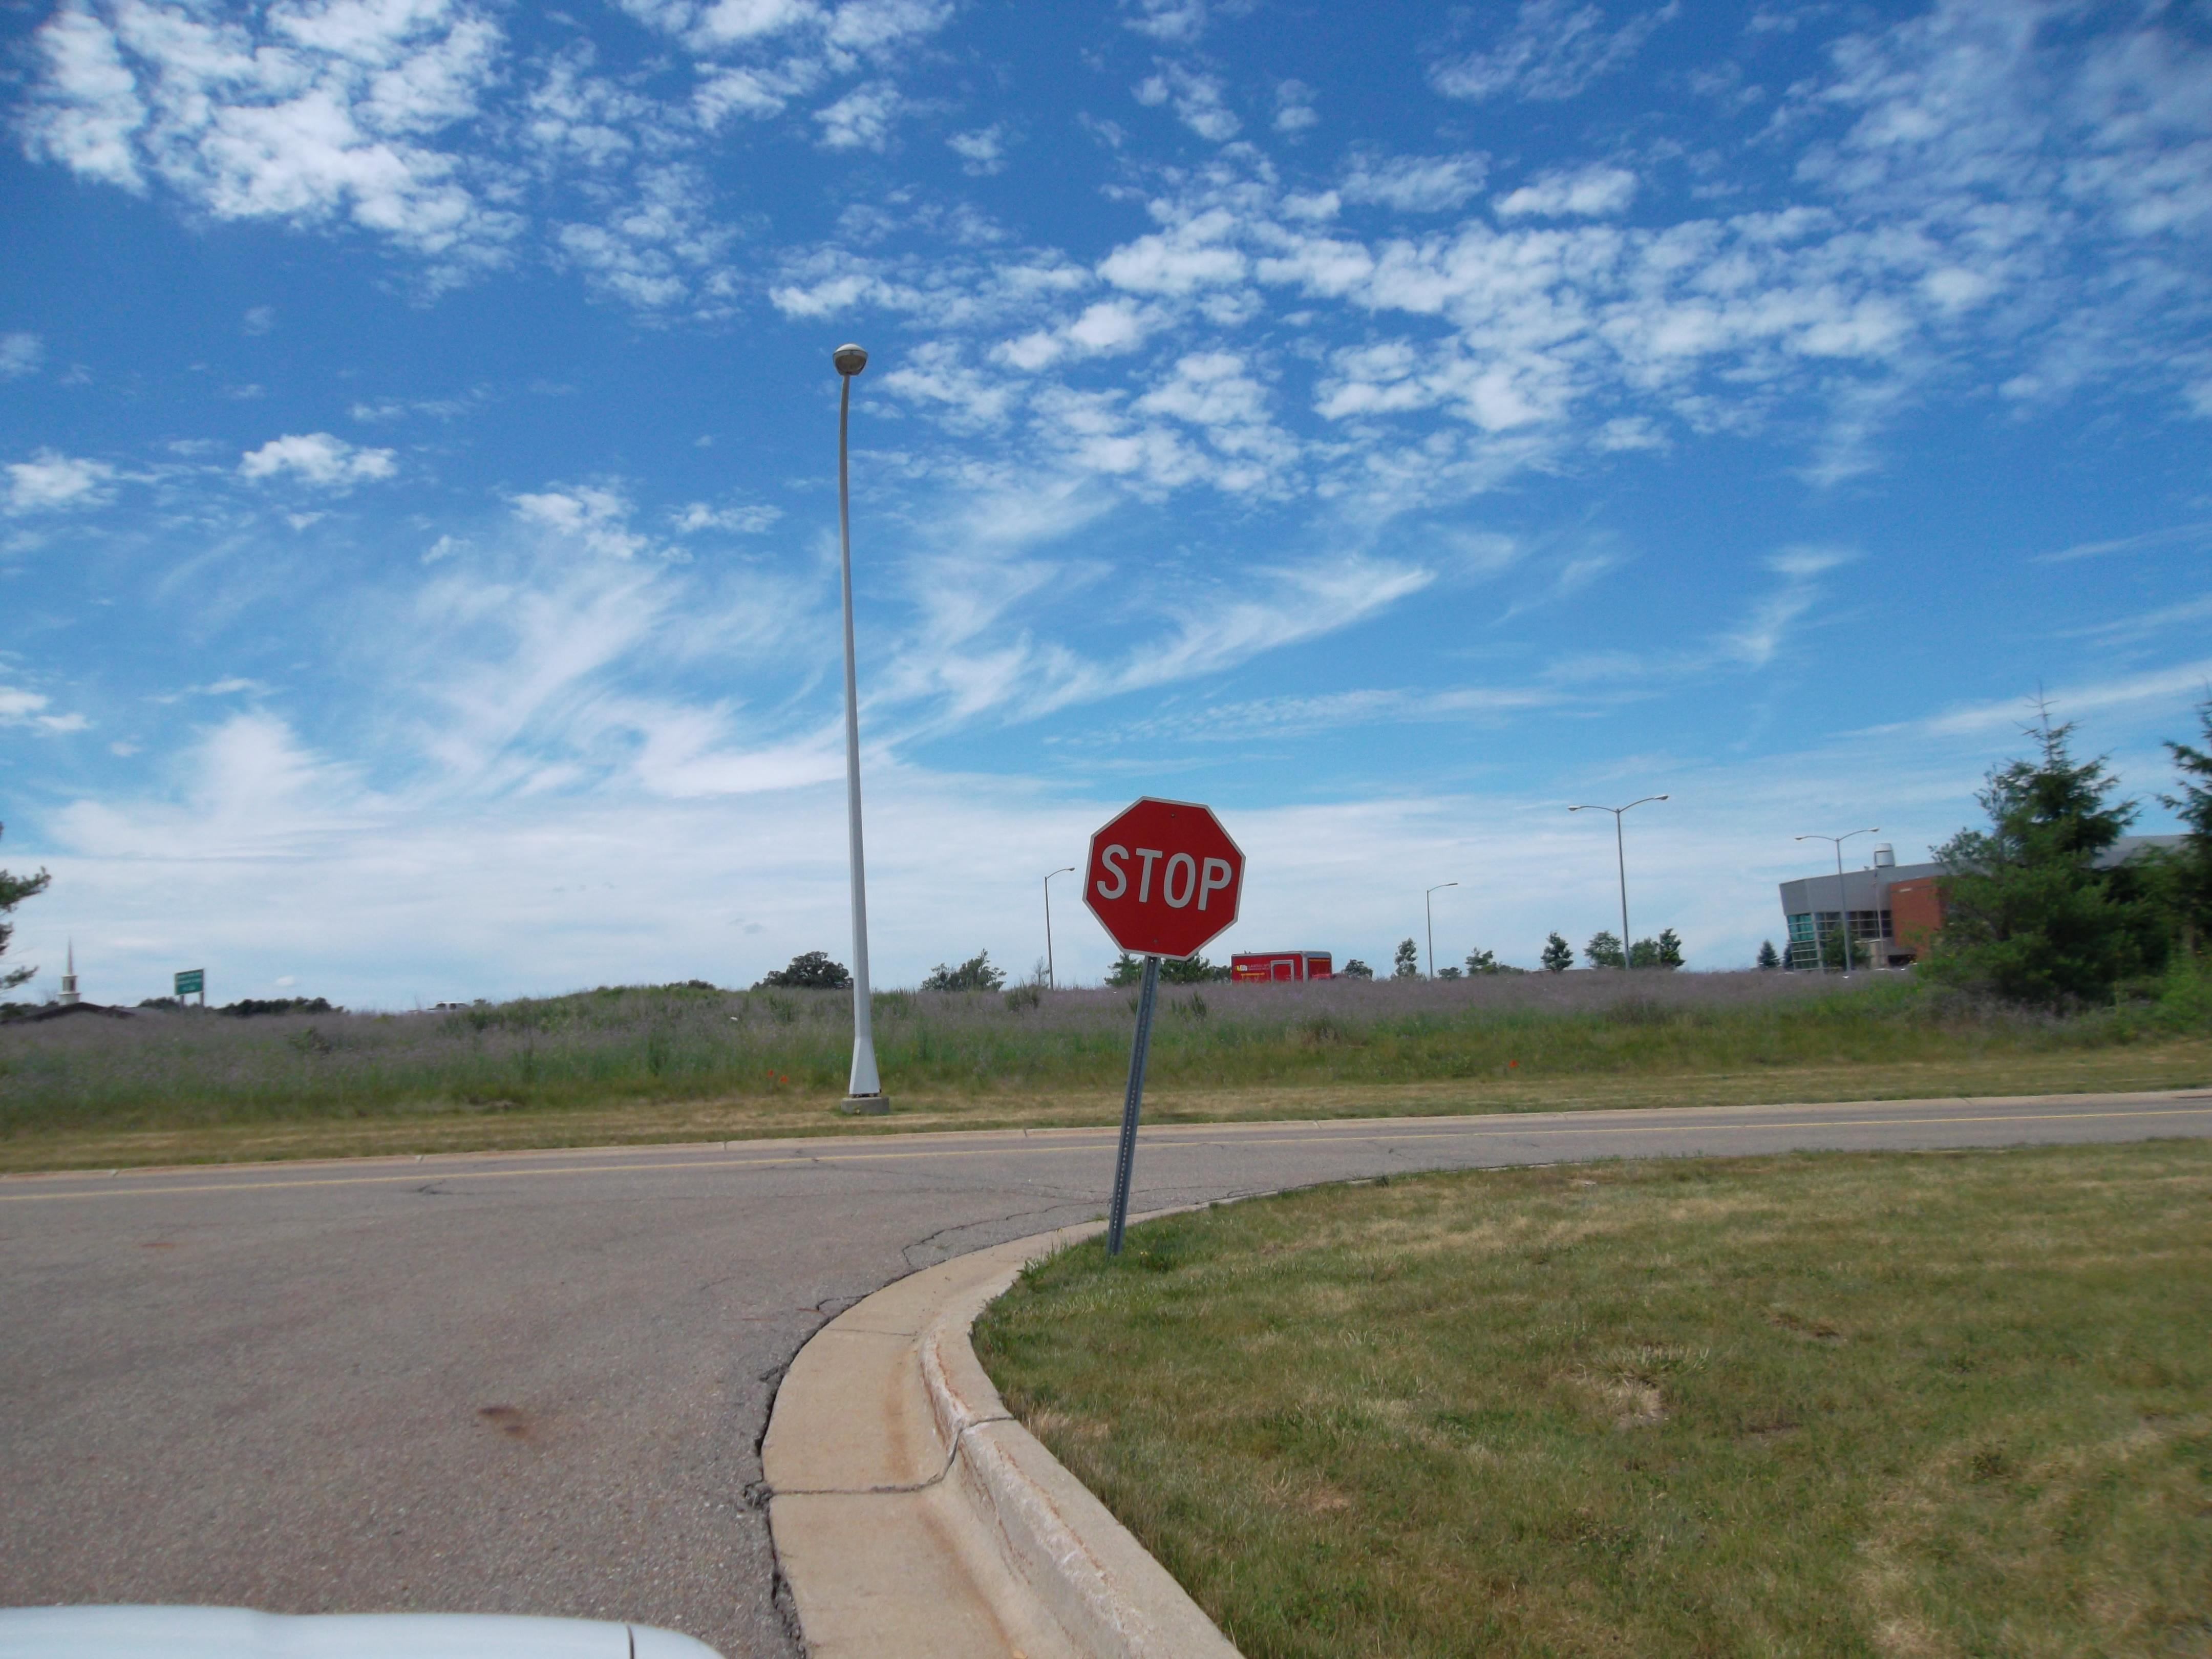stop: (1071, 782, 1256, 972)
